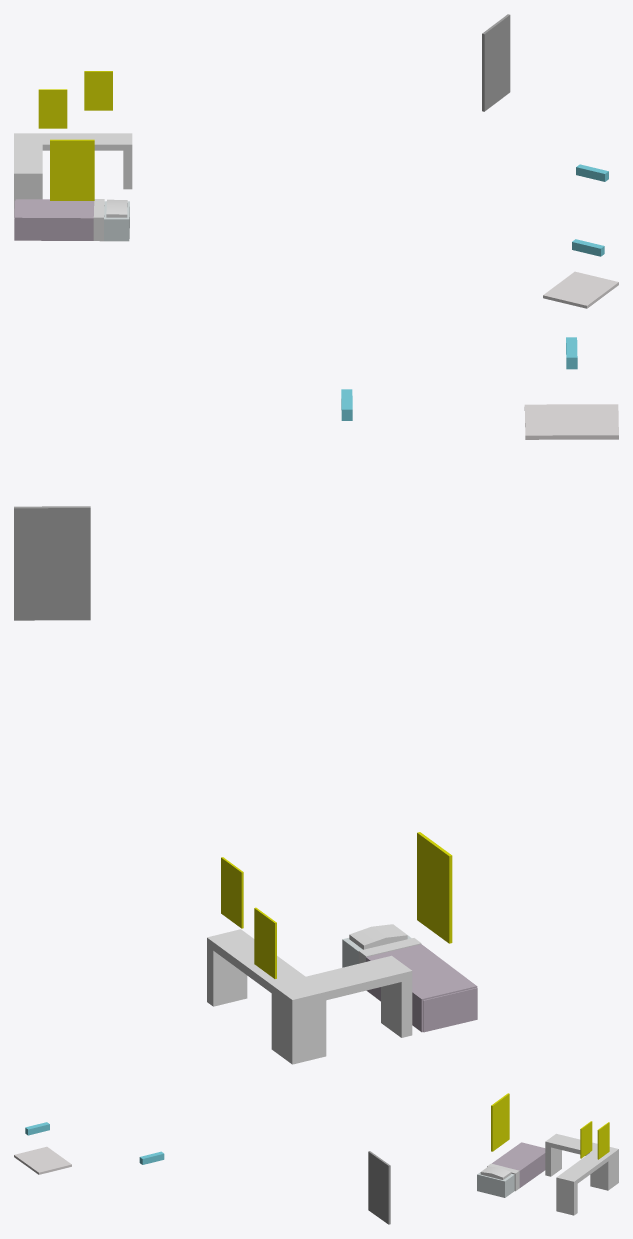
The model's file is tutorial_detail.fbx.
The picture shows the model from 3 angles, top to bottom: view 1: azimuth 30°, elevation 25°; view 2: azimuth 150°, elevation 25°; view 3: azimuth 270°, elevation 25°; orthographic projection. The views are drawn at different scales.
Parts seen in each view (by area): view 1: bed, desk, poster2, photo_area, platform, poster, poster1; view 2: desk, photo_area, bed, platform, poster2, poster, poster1; view 3: desk, bed, photo_area, platform, poster2, poster, poster1, grapple, grapple1.
Boxes of the visible parts, x1,y1,x2,y2 form: bed: (14, 199, 129, 241); desk: (14, 133, 132, 217); poster2: (50, 139, 94, 200); photo_area: (482, 14, 510, 111); platform: (543, 271, 618, 308); poster: (38, 89, 67, 128); poster1: (84, 71, 112, 110); desk: (207, 929, 412, 1064); photo_area: (14, 506, 90, 620); bed: (342, 924, 477, 1032); platform: (524, 404, 618, 439); poster2: (417, 832, 452, 943); poster: (254, 907, 276, 978); poster1: (221, 857, 243, 928); desk: (545, 1133, 618, 1215); bed: (477, 1142, 545, 1197); photo_area: (368, 1151, 390, 1224); platform: (14, 1146, 71, 1174); poster2: (491, 1093, 509, 1151); poster: (597, 1122, 609, 1159); poster1: (580, 1121, 592, 1158); grapple: (139, 1151, 164, 1164); grapple1: (25, 1122, 49, 1135).
Size of the model in its own units: 22.44 by 10.01 by 38.
